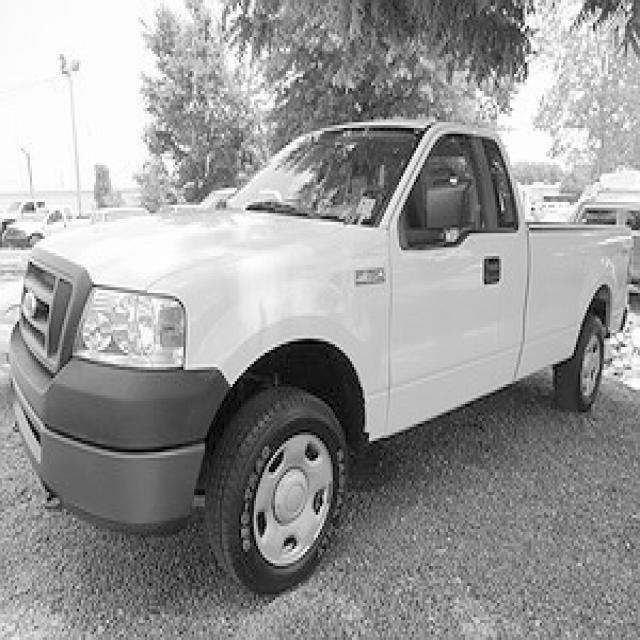car: (4, 116, 632, 594)
